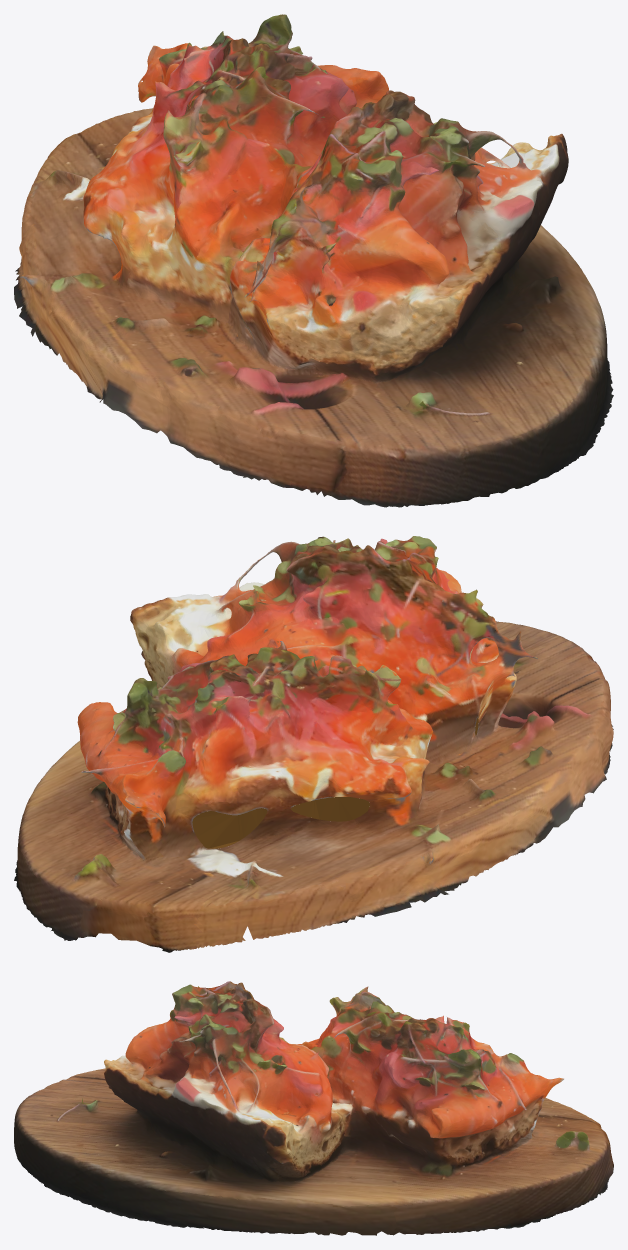
Rendered from tosta-salmon.glb.
3 renders of one model, top to bottom at view 1: azimuth 30°, elevation 25°; view 2: azimuth 150°, elevation 25°; view 3: azimuth 270°, elevation 25°, orthographic. The views are drawn at different scales.
Visible parts, largest first — view 1: Object_2; view 2: Object_2, Object_4; view 3: Object_2.
Boxes of the visible parts, <box> form: Object_2: <box>14,14,613,507</box>; Object_2: <box>14,536,613,952</box>; Object_4: <box>192,717,478,848</box>; Object_2: <box>14,981,613,1235</box>.
Bounding box in the file's own units: 0.1607 × 0.0871 × 0.26.
2 materials, 1 textured.
